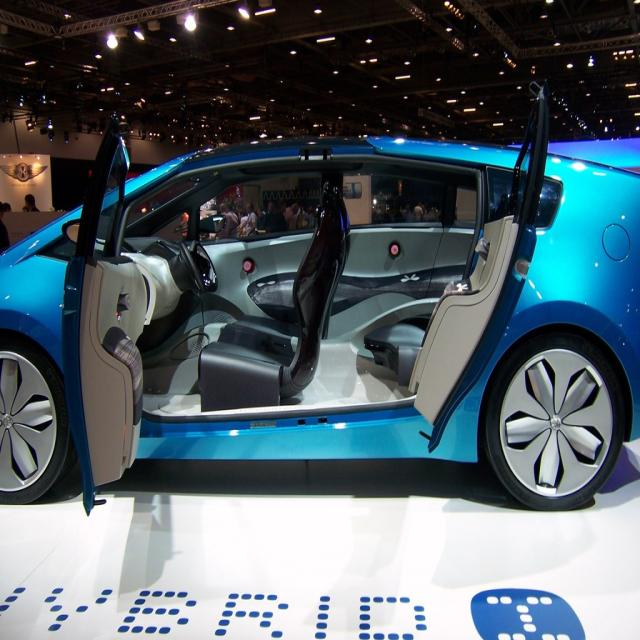car: (23, 116, 623, 530)
